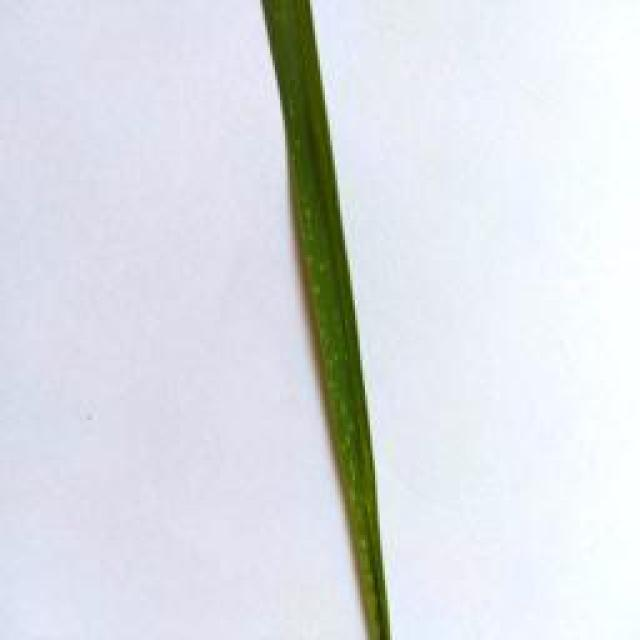Brown_Spot: (272, 176, 342, 428)
